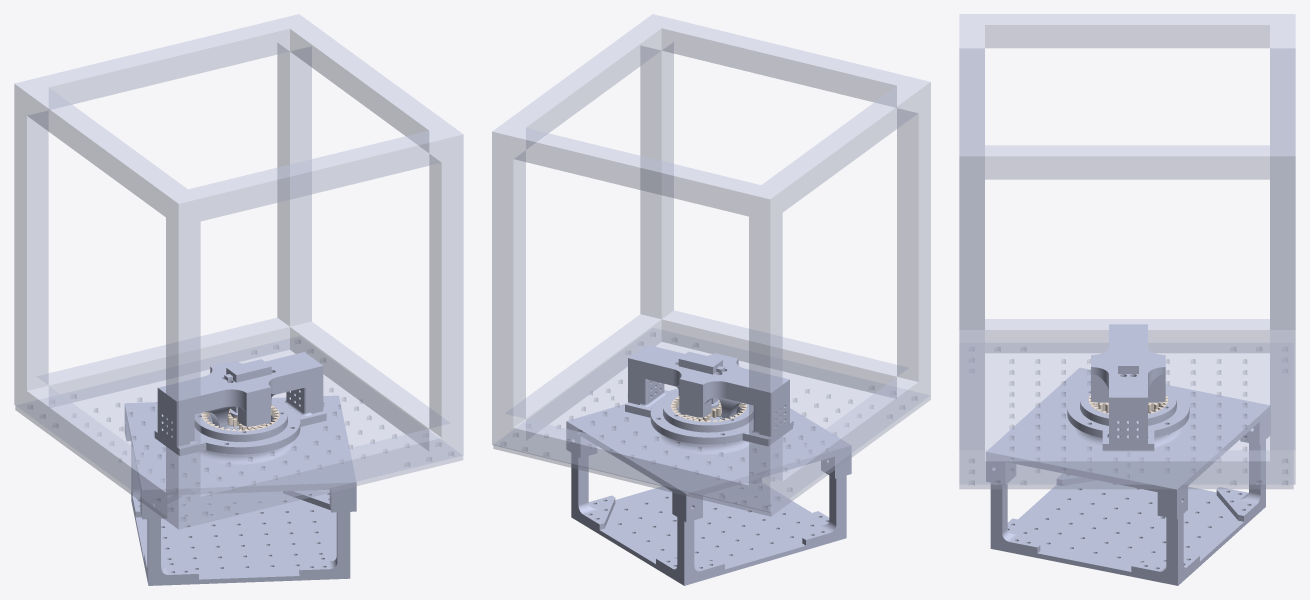
The model's file is prototype.glb.
3 views of the same model, side by side, from view 1: azimuth 30°, elevation 25°; view 2: azimuth 150°, elevation 25°; view 3: azimuth 270°, elevation 25° (orthographic). The views are drawn at different scales.
Visible parts, largest first — view 1: cube_frame-1, space_sim_bottom_plate_final_whole-1, bottom_cube_vertical_connectors-1, space_sim_top_plate_bottom_part-1, servo_holder-1, bearing_outer-1, bottom_part_bottom_plate-1, bottom_part_bottom_plate-3, gear_holder_new-1, space_sim_top_plate_top_part-1, servo_attachement_bottom_plate-2, servo_frame-1 (+1 smaller); view 2: cube_frame-1, space_sim_bottom_plate_final_whole-1, bottom_cube_vertical_connectors-1, space_sim_top_plate_bottom_part-1, servo_holder-1, bottom_part_bottom_plate-4, bottom_part_bottom_plate-2, bottom_part_bottom_plate-3, bearing_outer-1, gear_holder_new-1, space_sim_top_plate_top_part-1, servo_attachement_bottom_plate-2 (+2 smaller); view 3: cube_frame-1, space_sim_bottom_plate_final_whole-1, space_sim_top_plate_bottom_part-1, bottom_cube_vertical_connectors-1, servo_holder-1, bottom_part_bottom_plate-2, bottom_part_bottom_plate-1, bottom_part_bottom_plate-4, bearing_outer-1, gear_holder_new-1, servo_attachement_bottom_plate-2, space_sim_top_plate_top_part-1 (+1 smaller).
Part boxes in pixels (bbox=[...]): cube_frame-1: bbox=[14, 14, 463, 524]; space_sim_bottom_plate_final_whole-1: bbox=[15, 336, 462, 529]; bottom_cube_vertical_connectors-1: bbox=[131, 491, 350, 585]; space_sim_top_plate_bottom_part-1: bbox=[124, 395, 356, 519]; servo_holder-1: bbox=[157, 352, 323, 446]; bearing_outer-1: bbox=[194, 402, 300, 454]; bottom_part_bottom_plate-1: bbox=[299, 512, 350, 575]; bottom_part_bottom_plate-3: bbox=[144, 503, 198, 581]; gear_holder_new-1: bbox=[194, 400, 287, 441]; space_sim_top_plate_top_part-1: bbox=[194, 421, 293, 464]; servo_attachement_bottom_plate-2: bbox=[275, 386, 326, 426]; servo_frame-1: bbox=[224, 359, 271, 412]; cube_frame-1: bbox=[492, 14, 930, 512]; space_sim_bottom_plate_final_whole-1: bbox=[493, 328, 930, 516]; bottom_cube_vertical_connectors-1: bbox=[571, 482, 846, 585]; space_sim_top_plate_bottom_part-1: bbox=[566, 388, 851, 522]; servo_holder-1: bbox=[628, 344, 789, 436]; bottom_part_bottom_plate-4: bbox=[571, 440, 615, 529]; bottom_part_bottom_plate-2: bbox=[656, 517, 724, 581]; bottom_part_bottom_plate-3: bbox=[802, 475, 846, 545]; bearing_outer-1: bbox=[650, 393, 753, 444]; gear_holder_new-1: bbox=[663, 391, 753, 432]; space_sim_top_plate_top_part-1: bbox=[657, 412, 753, 454]; servo_attachement_bottom_plate-2: bbox=[625, 378, 674, 417]; cube_frame-1: bbox=[959, 14, 1295, 484]; space_sim_bottom_plate_final_whole-1: bbox=[959, 343, 1293, 488]; space_sim_top_plate_bottom_part-1: bbox=[986, 367, 1269, 519]; bottom_cube_vertical_connectors-1: bbox=[990, 480, 1265, 585]; servo_holder-1: bbox=[1091, 324, 1165, 443]; bottom_part_bottom_plate-2: bbox=[1216, 440, 1265, 521]; bottom_part_bottom_plate-1: bbox=[990, 483, 1040, 553]; bottom_part_bottom_plate-4: bbox=[1131, 514, 1199, 581]; bearing_outer-1: bbox=[1067, 387, 1189, 437]; gear_holder_new-1: bbox=[1080, 387, 1176, 425]; servo_attachement_bottom_plate-2: bbox=[1102, 431, 1154, 451]; space_sim_top_plate_top_part-1: bbox=[1074, 410, 1182, 448].
Bounding box in the file's own units: 0.3302 × 0.4779 × 0.3302.
